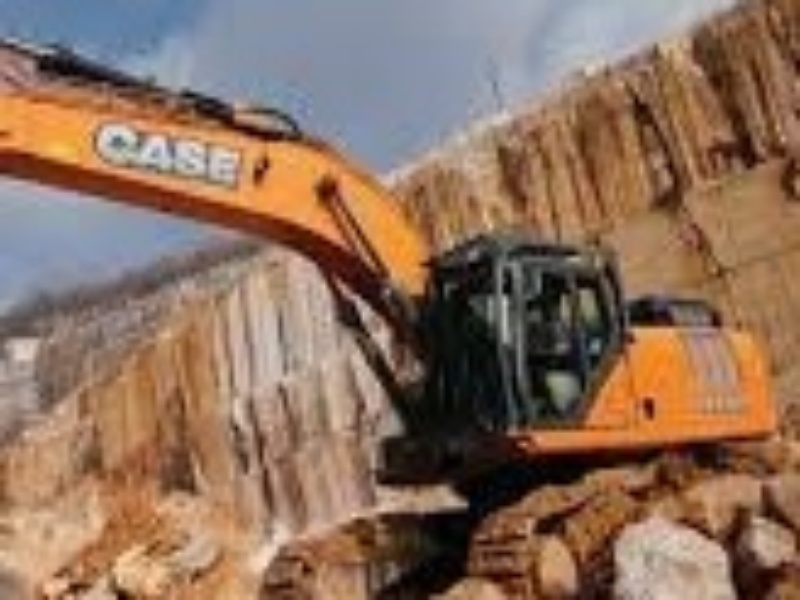wajueji: (245, 150, 777, 600)
